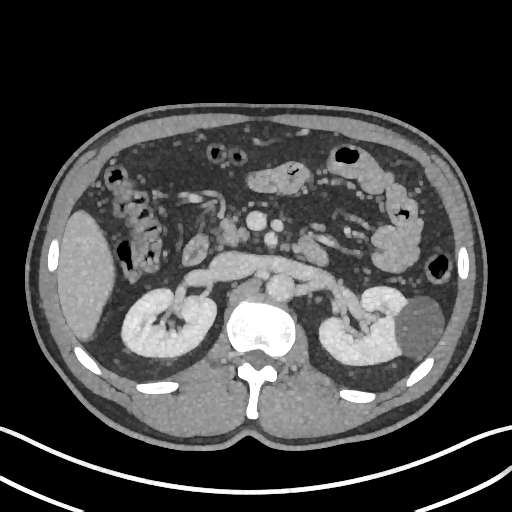Lesion: (391, 290, 447, 366)
